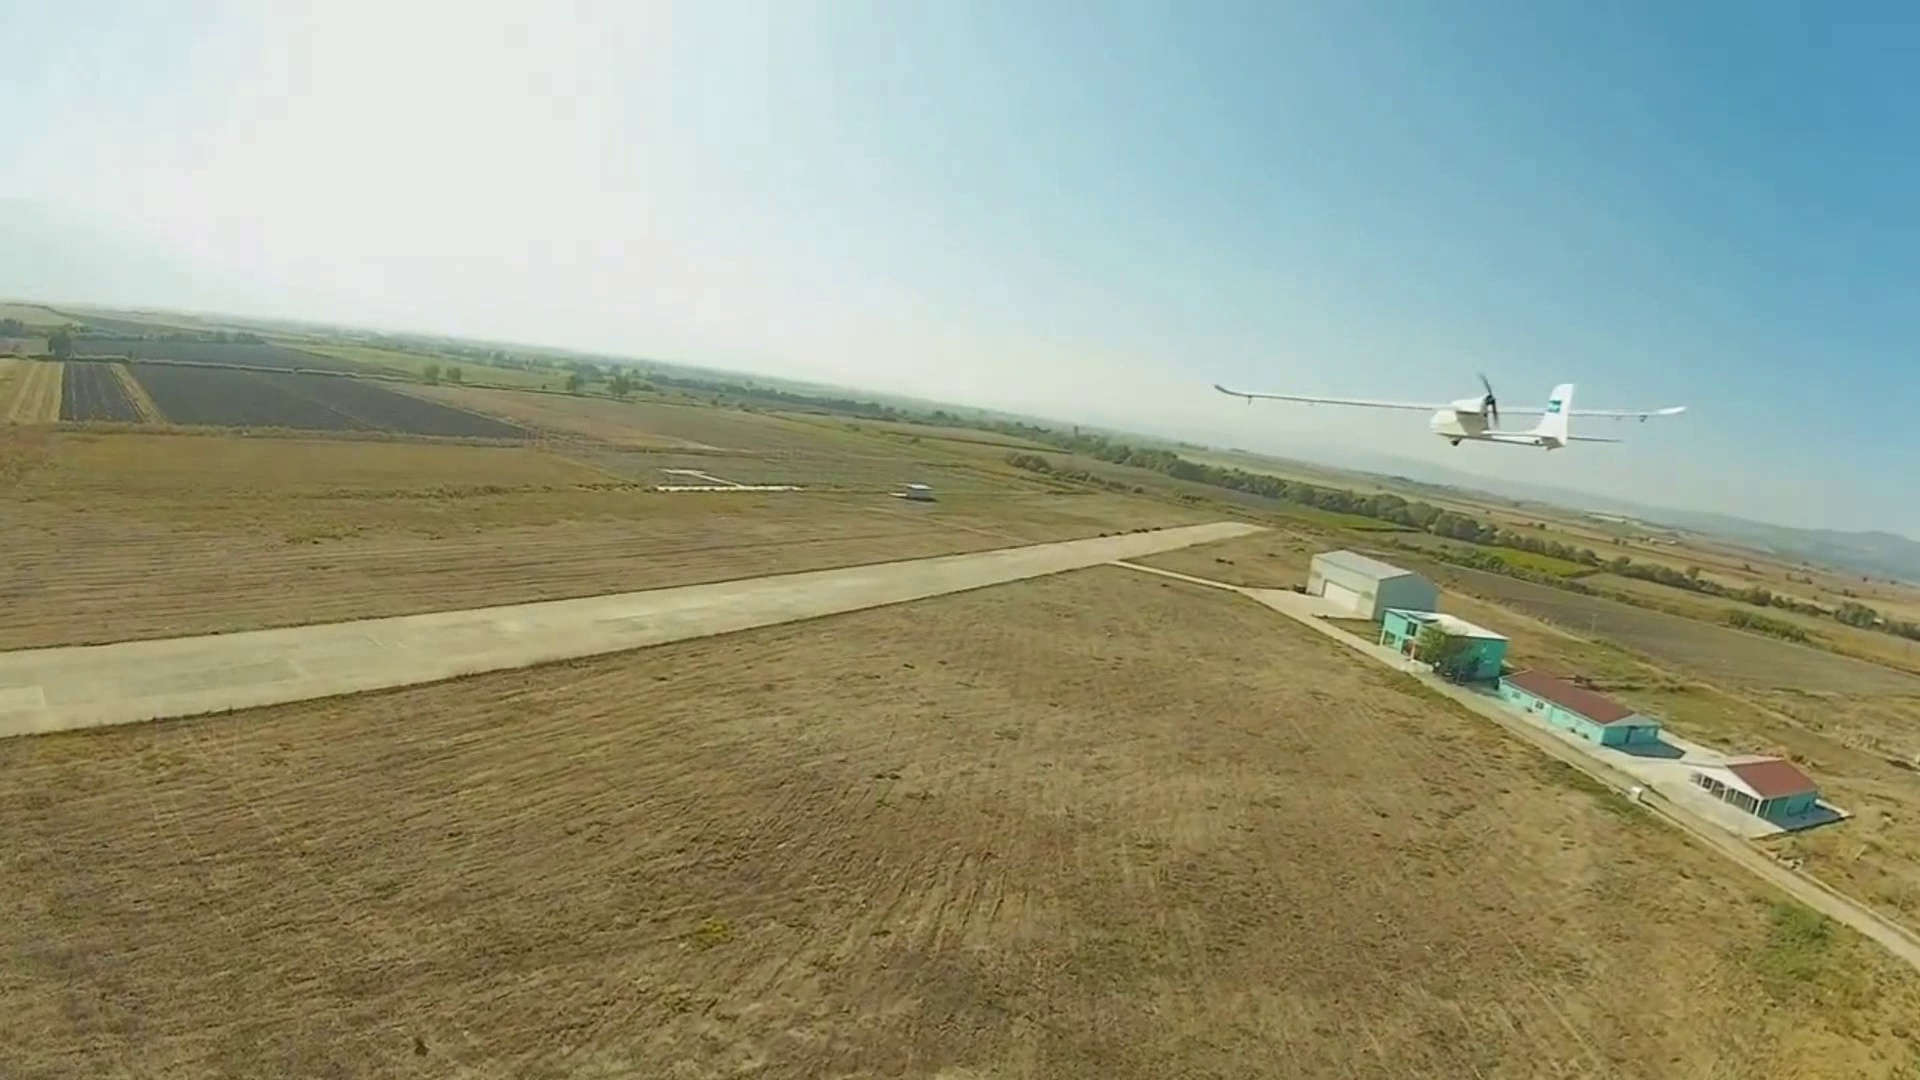airplane: (1204, 367, 1688, 452)
